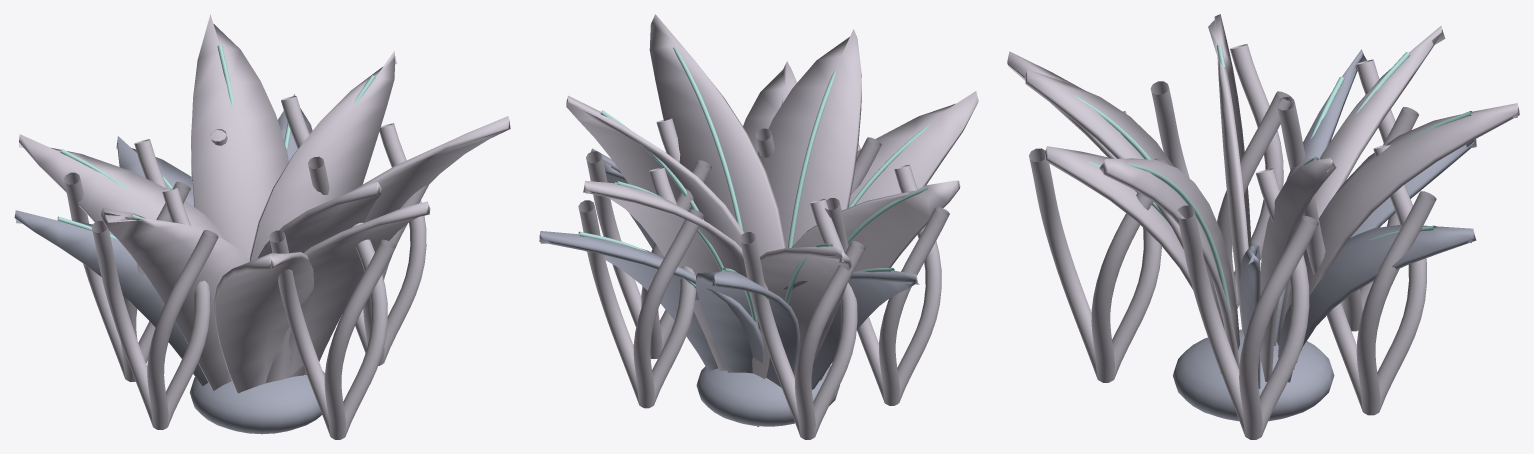
The model's file is bio_mist_leaf_24_near.glb.
3 renders of one model, left to right at view 1: azimuth 30°, elevation 25°; view 2: azimuth 150°, elevation 25°; view 3: azimuth 270°, elevation 25°, orthographic. The views are drawn at different scales.
Visible parts, largest first — view 1: Cupped condensate leaf.011, Cupped condensate leaf.008, Spiral filament.012, Spiral filament.006, Cupped condensate leaf.007, Cupped condensate leaf.004, Cupped condensate leaf.010, Cupped condensate leaf.001, Root rosette, Cupped condensate leaf.009, Spiral filament, Cupped condensate leaf.002 (+4 smaller); view 2: Cupped condensate leaf.002, Cupped condensate leaf.005, Spiral filament.003, Spiral filament.009, Spiral filament.012, Cupped condensate leaf.011, Cupped condensate leaf.008, Cupped condensate leaf.004, Cupped condensate leaf.006, Cupped condensate leaf.007, Cupped condensate leaf.003, Cupped condensate leaf.001 (+10 smaller); view 3: Spiral filament, Spiral filament.009, Spiral filament.006, Cupped condensate leaf.011, Spiral filament.012, Root rosette, Cupped condensate leaf.003, Cupped condensate leaf.005, Cupped condensate leaf.001, Cupped condensate leaf.002, Cupped condensate leaf.004, Cupped condensate leaf.008 (+7 smaller).
Part boxes in pixels (x1,y1,x2,y2): Cupped condensate leaf.011: (191,14,288,260); Cupped condensate leaf.008: (249,51,396,261); Spiral filament.012: (91,188,218,429); Spiral filament.006: (269,222,395,439); Cupped condensate leaf.007: (214,252,313,393); Cupped condensate leaf.004: (101,208,249,390); Cupped condensate leaf.010: (289,201,430,375); Cupped condensate leaf.001: (19,134,228,242); Root rosette: (189,371,324,434); Cupped condensate leaf.009: (14,210,208,386); Spiral filament: (308,123,428,365); Cupped condensate leaf.002: (257,182,381,383); Cupped condensate leaf.002: (757,29,861,248); Cupped condensate leaf.005: (649,14,786,256); Spiral filament.003: (739,199,865,439); Spiral filament.009: (578,167,704,408); Spiral filament.012: (824,164,949,405); Cupped condensate leaf.011: (583,180,769,378); Cupped condensate leaf.008: (566,95,744,247); Cupped condensate leaf.004: (791,180,960,380); Cupped condensate leaf.006: (696,271,800,426); Cupped condensate leaf.007: (849,91,978,205); Cupped condensate leaf.003: (539,231,763,371); Cupped condensate leaf.001: (760,246,852,426); Spiral filament: (1177,168,1318,439); Spiral filament.009: (1302,144,1436,415); Spiral filament.006: (1029,111,1170,382); Cupped condensate leaf.011: (1285,103,1519,369); Spiral filament.012: (1150,44,1291,308); Root rosette: (1173,329,1334,421); Cupped condensate leaf.003: (1278,224,1476,382); Cupped condensate leaf.005: (1099,158,1240,369); Cupped condensate leaf.001: (1276,26,1445,345); Cupped condensate leaf.002: (1025,69,1183,249); Cupped condensate leaf.004: (1208,14,1251,335); Cupped condensate leaf.008: (1260,158,1336,381).
Bounding box in the file's own units: 1.83 × 1.42 × 1.9.
